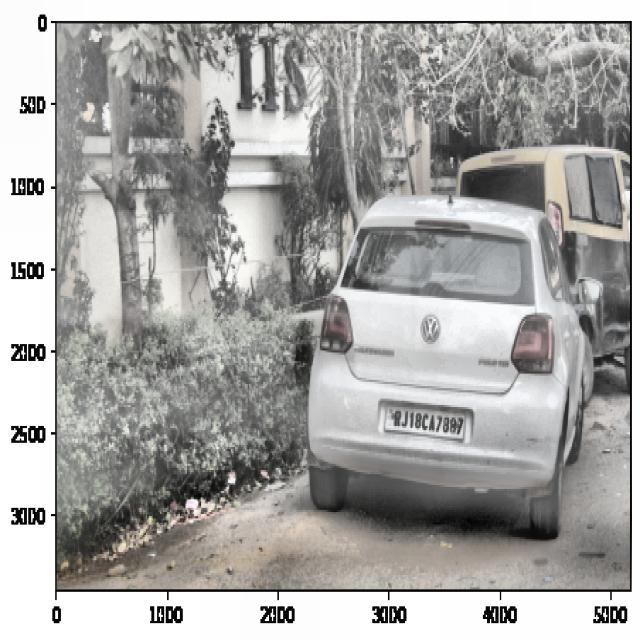license_plate: (388, 403, 467, 438)
